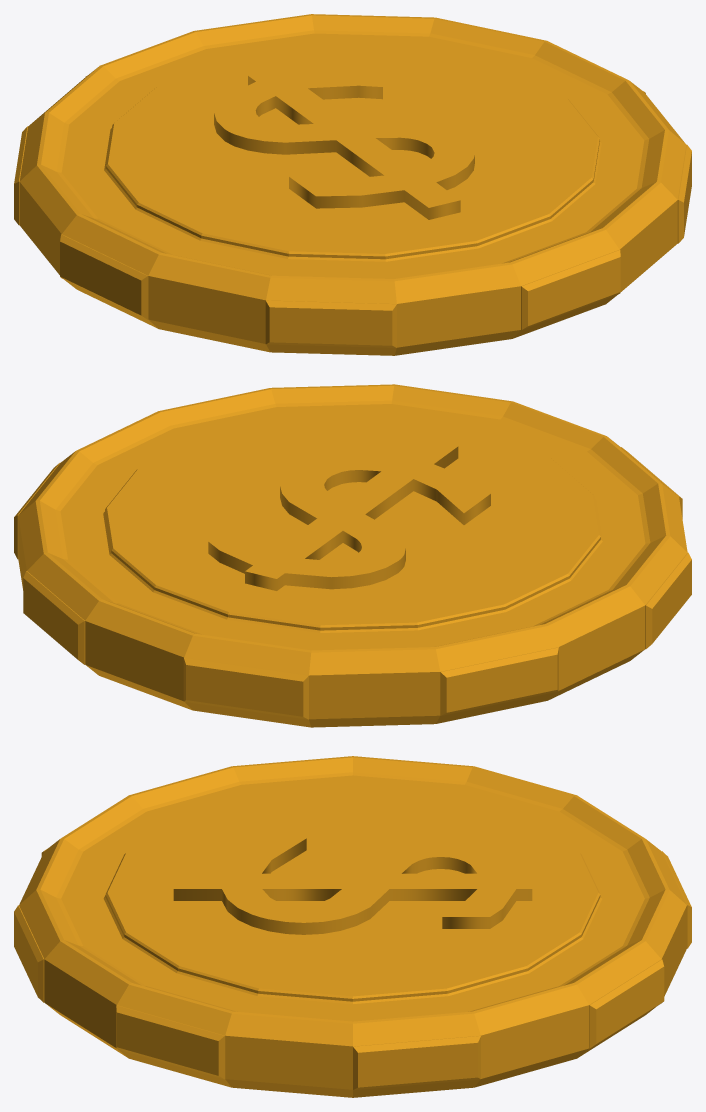
Rendered from Coin_NEw.glb.
3 renders of one model, top to bottom at view 1: azimuth 30°, elevation 25°; view 2: azimuth 150°, elevation 25°; view 3: azimuth 270°, elevation 25°, orthographic.
Parts seen in each view (by area): view 1: Coin_NEw; view 2: Coin_NEw; view 3: Coin_NEw.
Boxes of the visible parts, left/top/right/bottom form: Coin_NEw: left=14, top=14, right=691, bottom=355; Coin_NEw: left=14, top=384, right=691, bottom=727; Coin_NEw: left=14, top=756, right=691, bottom=1097.
Bounding box in the file's own units: 2.03 × 0.3061 × 2.03.
